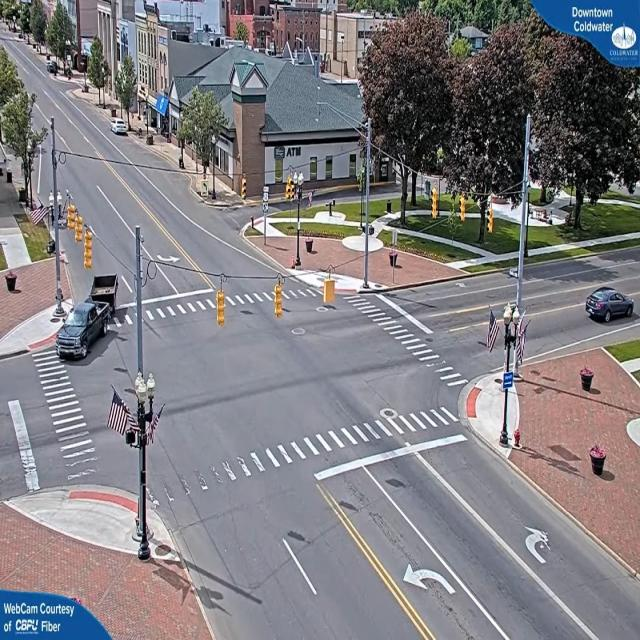car: (61, 298, 108, 359), (584, 286, 636, 326), (111, 122, 131, 138)
